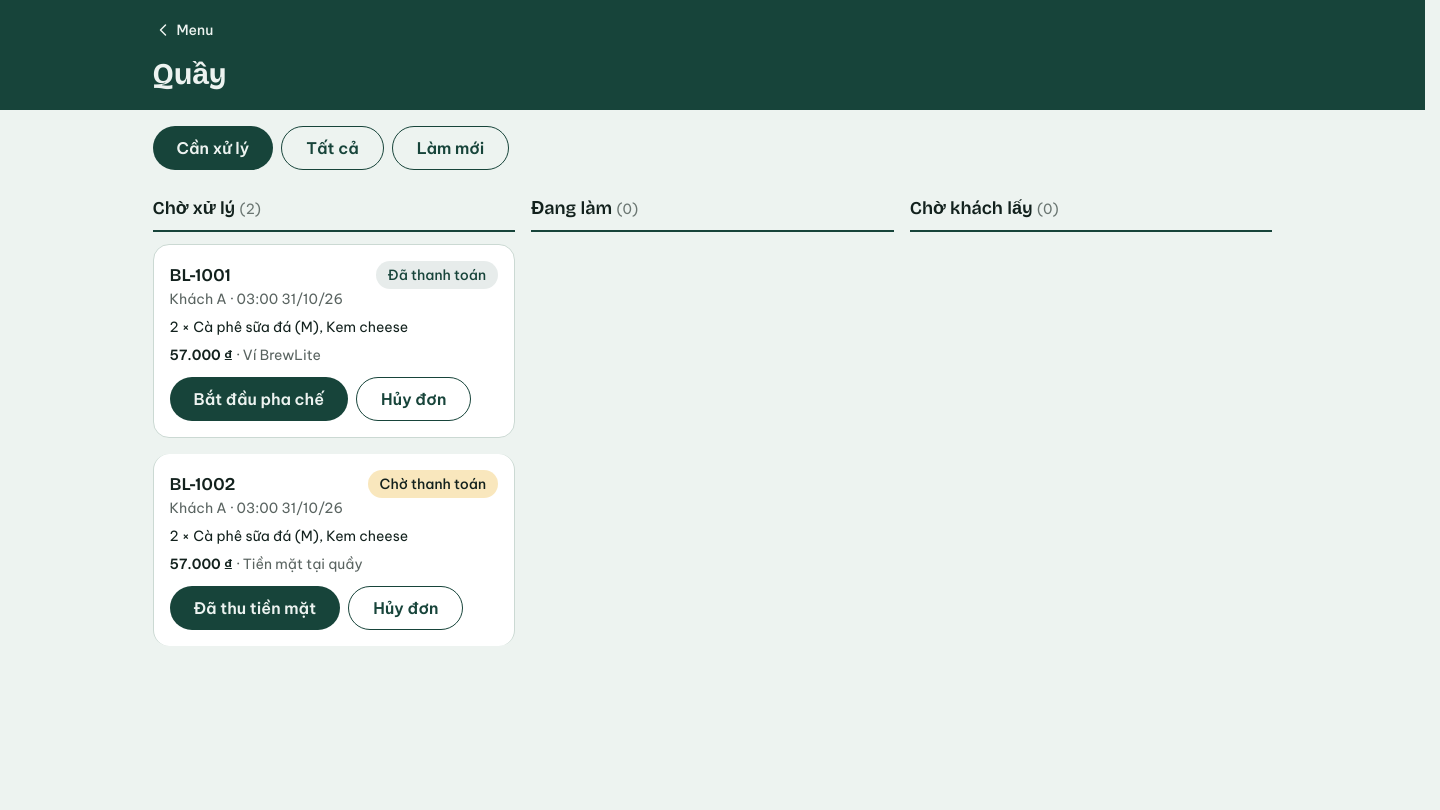
Test case: StaffOrdersScreen › xác nhận đã thu tiền mặt
Expected: the text "BL-1002" is shown, [170,472,235,494]
Click the button "Đã thu tiền mặt": (255, 608) [170,586,340,630]
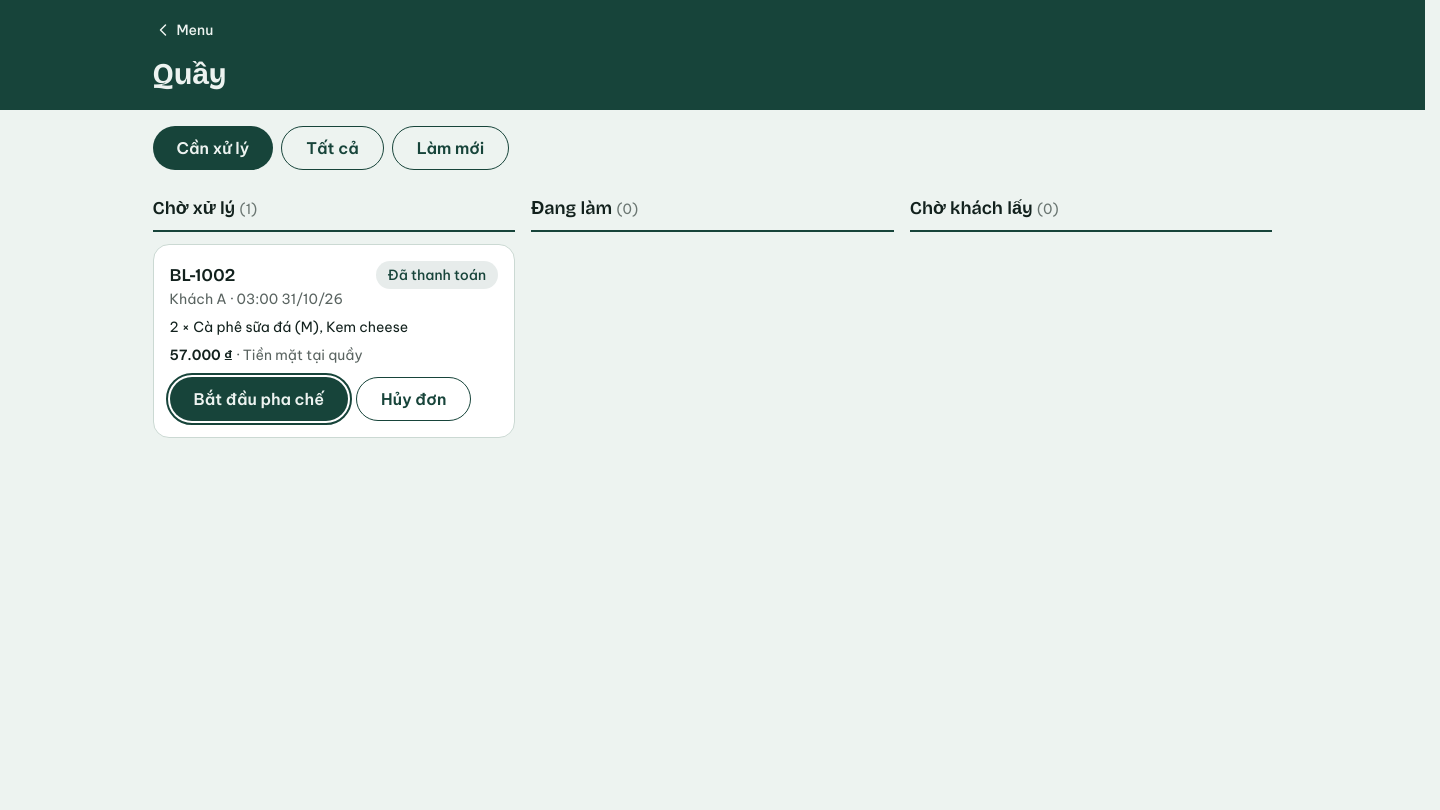
Expected: the button "Bắt đầu pha chế" is shown, [170,376,348,420]
